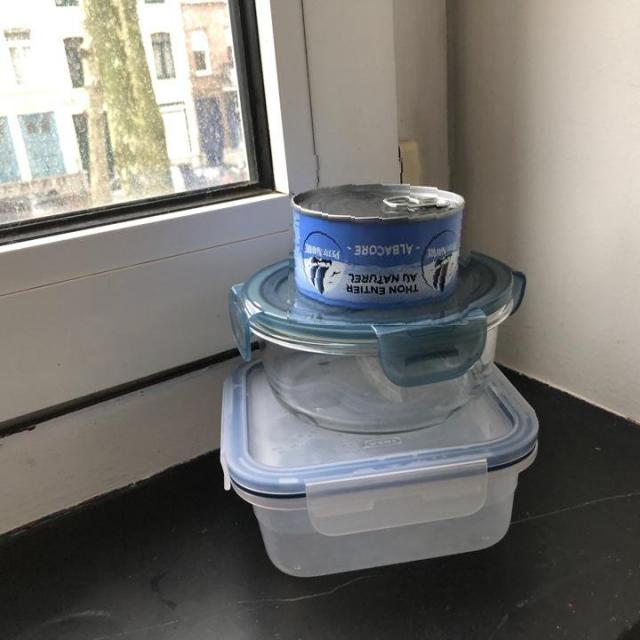recyclable: (289, 156, 473, 326)
